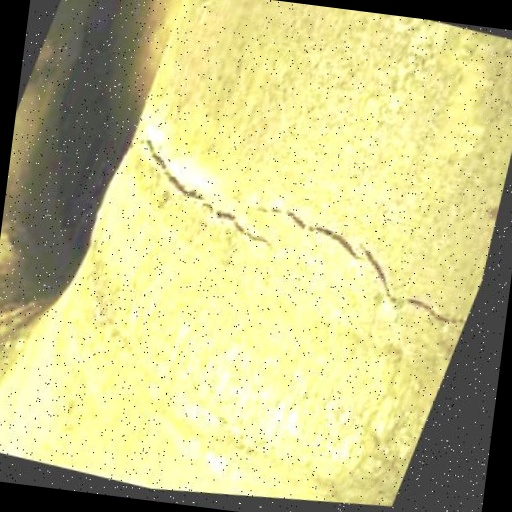crack: (78, 102, 511, 364)
